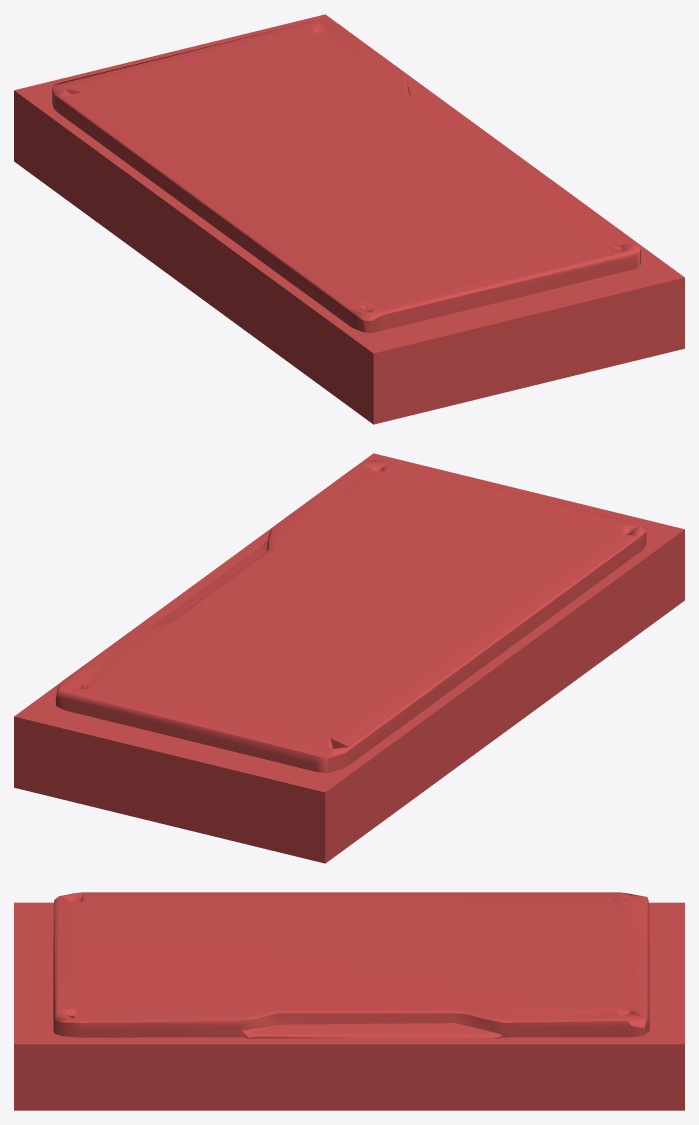
Rendered from Final_ComplexWall_2x1_01.FBX.
3 views of the same model, one above another, from view 1: azimuth 30°, elevation 25°; view 2: azimuth 150°, elevation 25°; view 3: azimuth 270°, elevation 25° (orthographic). The views are drawn at different scales.
Visible parts, largest first — view 1: Final_ComplexWall_2x1_01; view 2: Final_ComplexWall_2x1_01; view 3: Final_ComplexWall_2x1_01.
Part boxes in pixels (bbox=[...]): Final_ComplexWall_2x1_01: bbox=[14, 14, 684, 424]; Final_ComplexWall_2x1_01: bbox=[14, 453, 684, 863]; Final_ComplexWall_2x1_01: bbox=[14, 892, 684, 1110].
Size of the model in its own units: 100 by 200 by 27.08.
